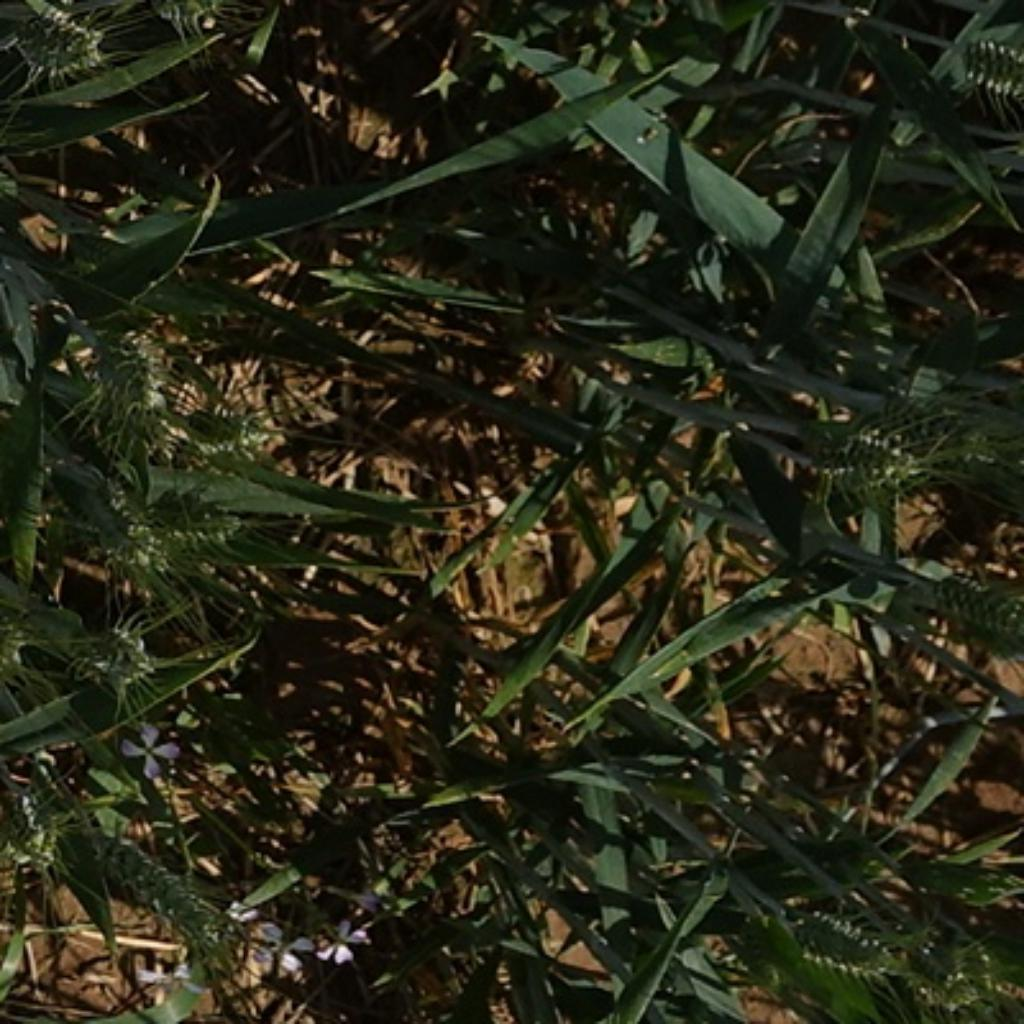0-0: (91, 822, 239, 941), (71, 328, 171, 458), (172, 382, 294, 478), (900, 905, 1007, 1010), (770, 901, 901, 983), (888, 380, 1000, 471), (89, 509, 187, 600), (0, 755, 76, 872), (2, 0, 107, 81), (825, 416, 945, 481), (83, 618, 172, 698), (942, 550, 1024, 632), (815, 458, 920, 518), (943, 35, 1024, 110), (157, 505, 252, 563), (139, 2, 261, 47), (0, 610, 48, 681)
